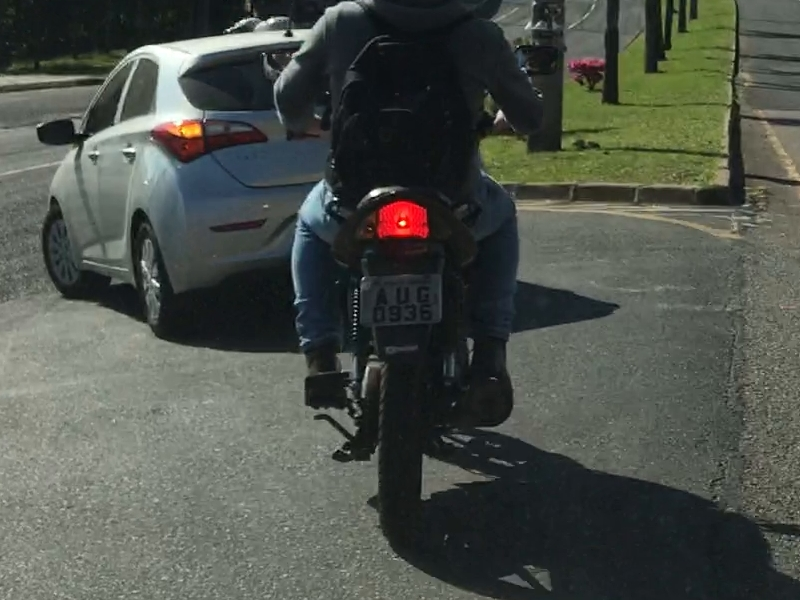placa: (359, 274, 442, 327)
